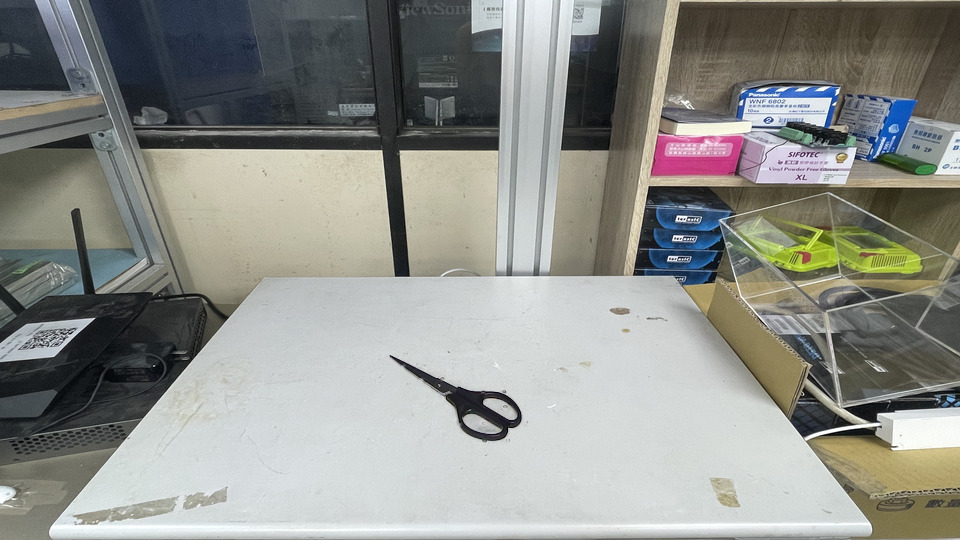blade: (386, 351, 455, 393)
round_grasp: (442, 384, 521, 442)
